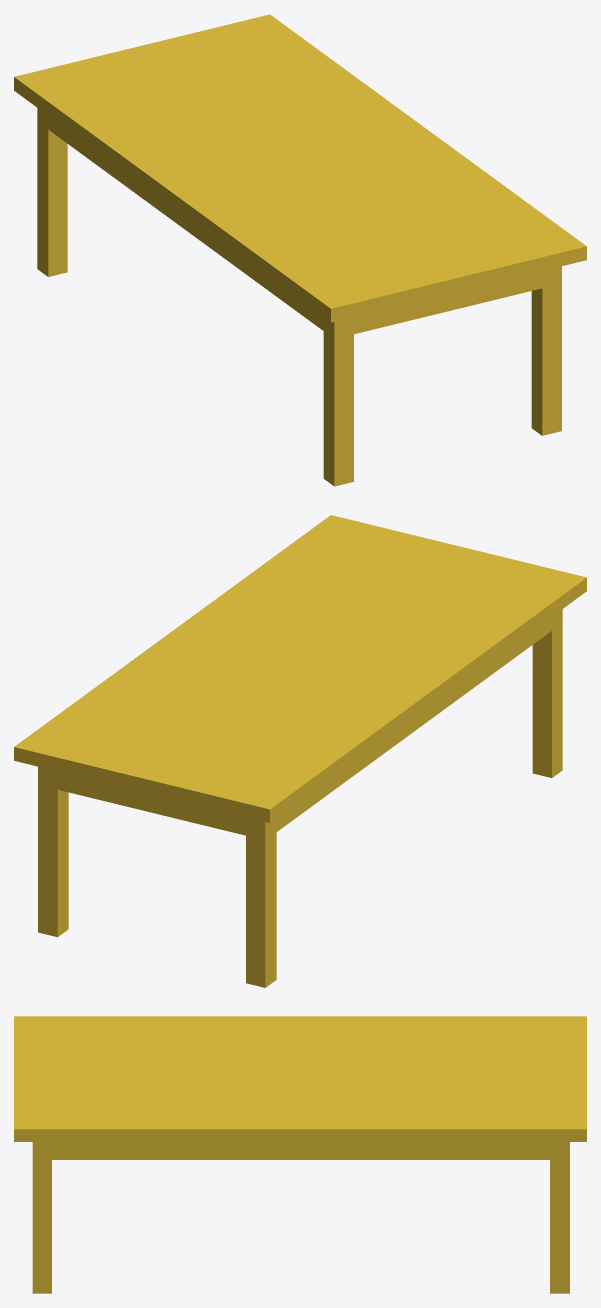
The picture shows the model from 3 angles, top to bottom: view 1: azimuth 30°, elevation 25°; view 2: azimuth 150°, elevation 25°; view 3: azimuth 270°, elevation 25°; orthographic projection. The views are drawn at different scales.
Parts seen in each view (by area): view 1: Cube; view 2: Cube; view 3: Cube.
Boxes of the visible parts, left/top/right/bottom form: Cube: left=14, top=14, right=586, bottom=486; Cube: left=14, top=515, right=586, bottom=987; Cube: left=14, top=1016, right=586, bottom=1293.
Bounding box in the file's own units: 0.00933 × 0.02 × 0.00657.
